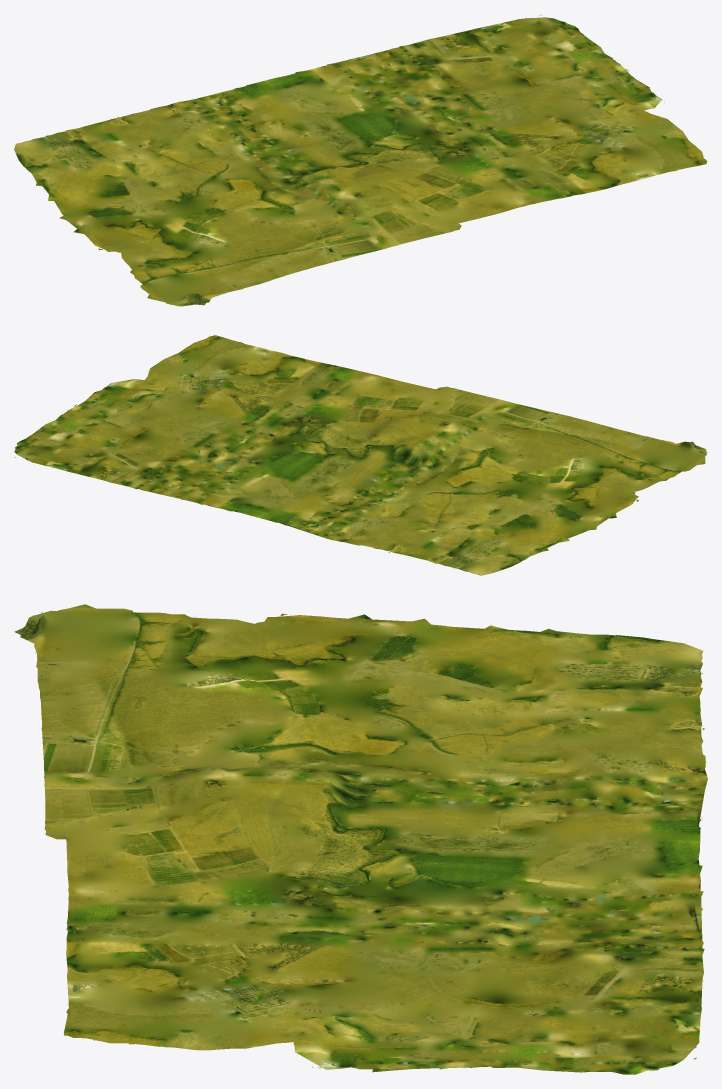
Rendered from ground.gltf.
The picture shows the model from 3 angles, top to bottom: view 1: azimuth 30°, elevation 25°; view 2: azimuth 150°, elevation 25°; view 3: azimuth 270°, elevation 25°; orthographic projection. The views are drawn at different scales.
Parts seen in each view (by area): view 1: Group6772; view 2: Group6772; view 3: Group6772.
Boxes of the visible parts, left/top/right/bottom form: Group6772: left=14, top=14, right=707, bottom=306; Group6772: left=14, top=335, right=707, bottom=575; Group6772: left=14, top=604, right=707, bottom=1074.
Bounding box in the file's own units: 1555 × 39.11 × 964.
Materials: 1 (1 with a texture image).
